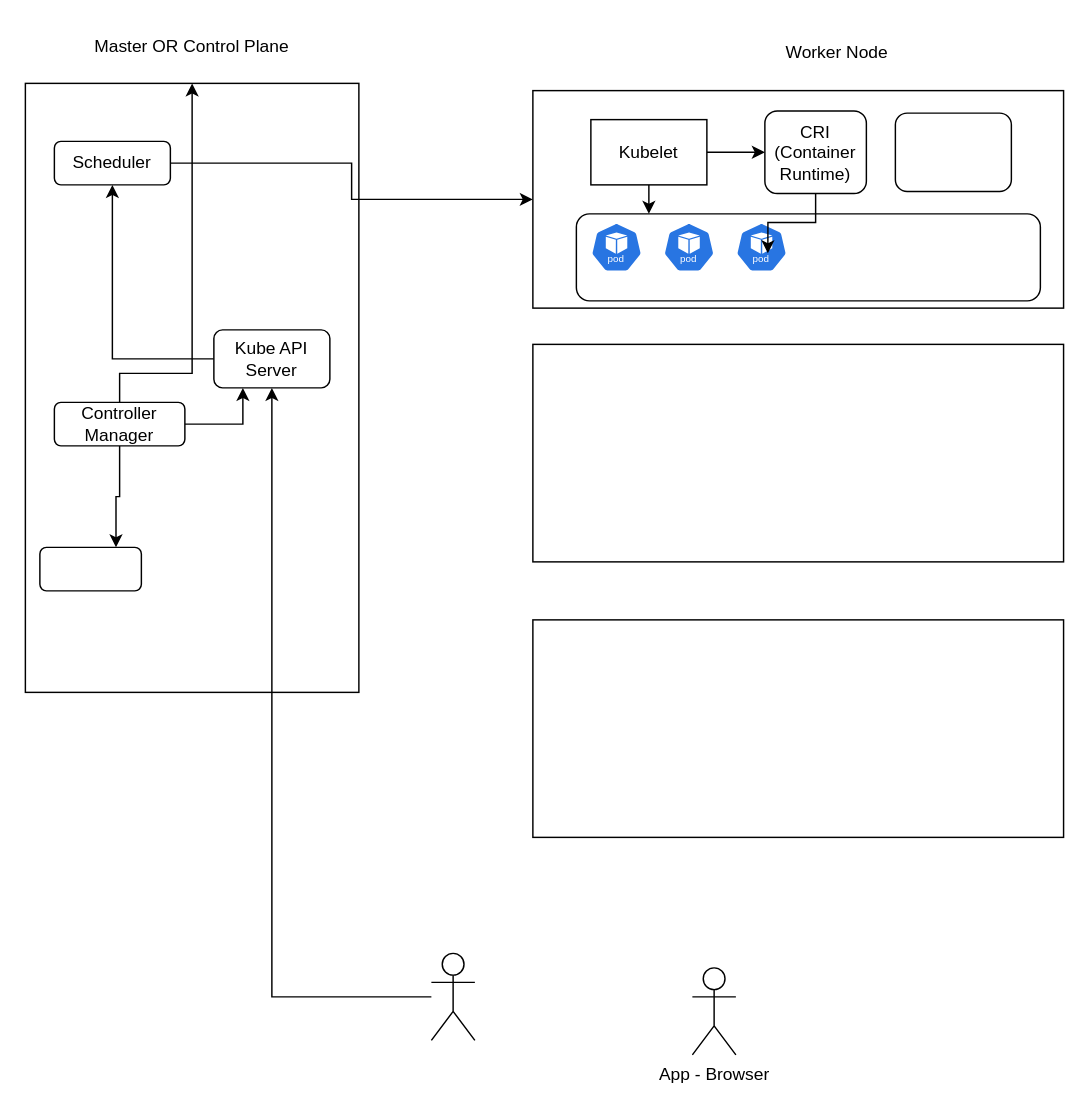
Some shapes in this 1089 by 1109 pixel diagram are drawn without their labels. Each missing label, with the centre of its shape:
"ETCD" goes at pixel 89 568.
"Kube-proxy" goes at pixel 952 151.
"Kubectl" goes at pixel 452 996.
